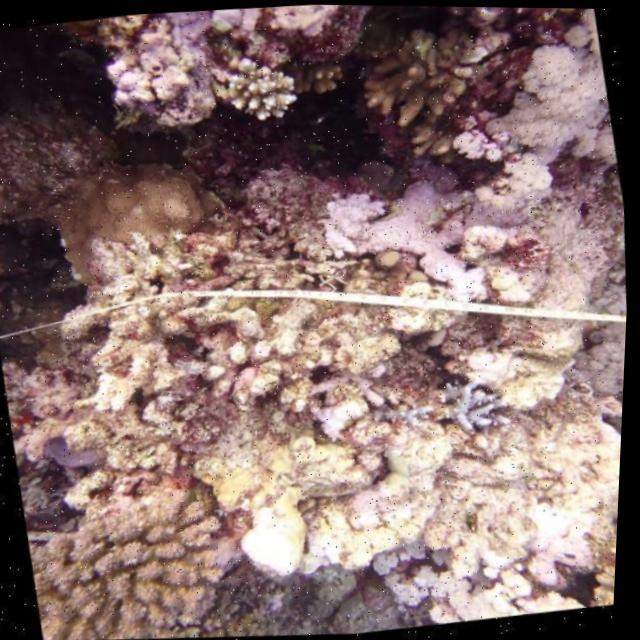Bleached Coral: (299, 111, 634, 306), (475, 15, 622, 174), (70, 8, 218, 149), (554, 252, 631, 444), (428, 357, 507, 446)
Healthy Coral: (31, 467, 249, 640)
